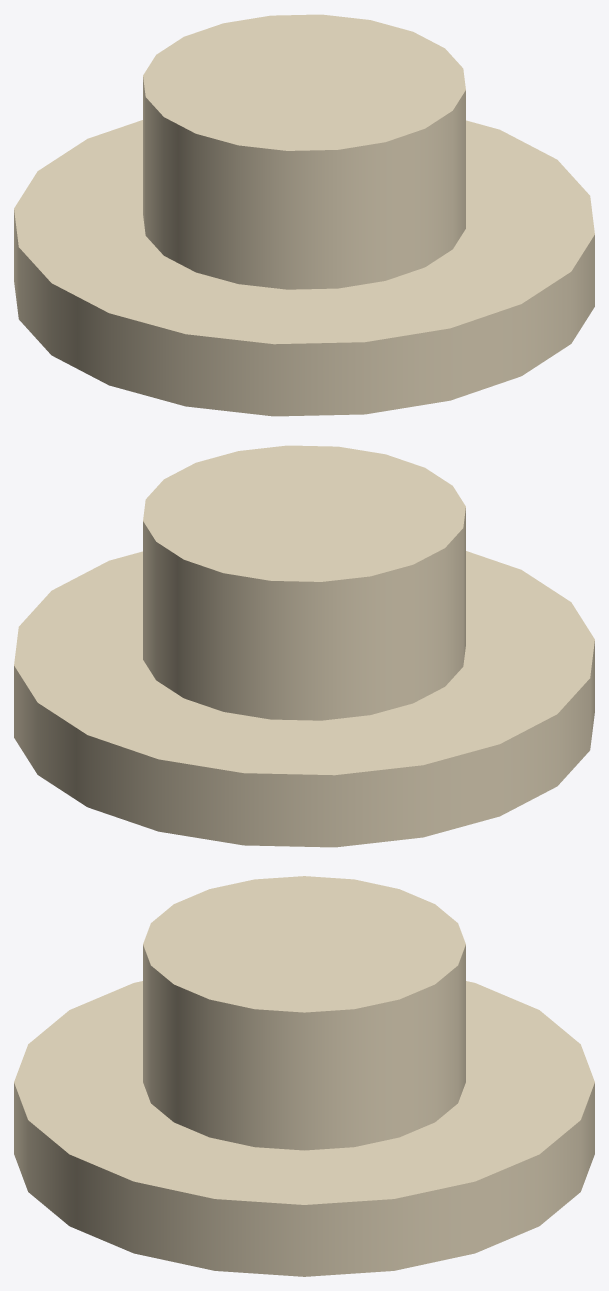
Rendered from Mallet.obj.
The picture shows the model from 3 angles, top to bottom: view 1: azimuth 30°, elevation 25°; view 2: azimuth 150°, elevation 25°; view 3: azimuth 270°, elevation 25°; orthographic projection.
Parts seen in each view (by area): view 1: mallet:mallet1; view 2: mallet:mallet1; view 3: mallet:mallet1.
Boxes of the visible parts, left/top/right/bottom form: mallet:mallet1: left=14, top=14, right=594, bottom=416; mallet:mallet1: left=14, top=445, right=594, bottom=847; mallet:mallet1: left=14, top=876, right=594, bottom=1276.
Bounding box in the file's own units: 1.32 × 0.5243 × 1.32.
